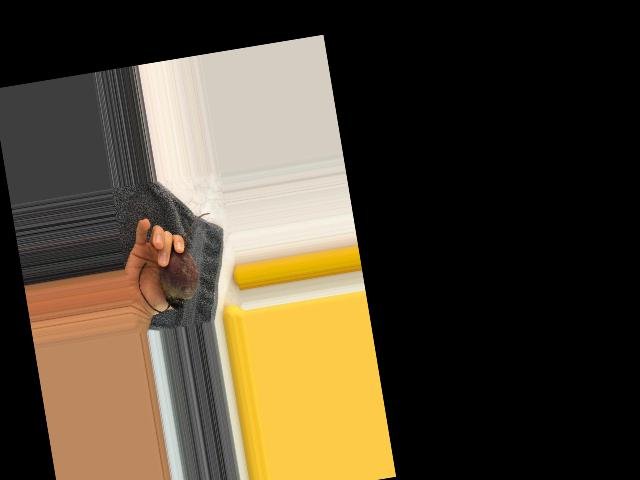beet: (128, 212, 224, 314)
